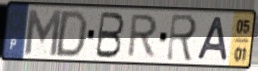A: (195, 15, 229, 63)
B: (93, 10, 126, 60)
D: (53, 9, 90, 59)
M: (23, 8, 63, 59)
R: (165, 13, 200, 64), (125, 13, 161, 59)
